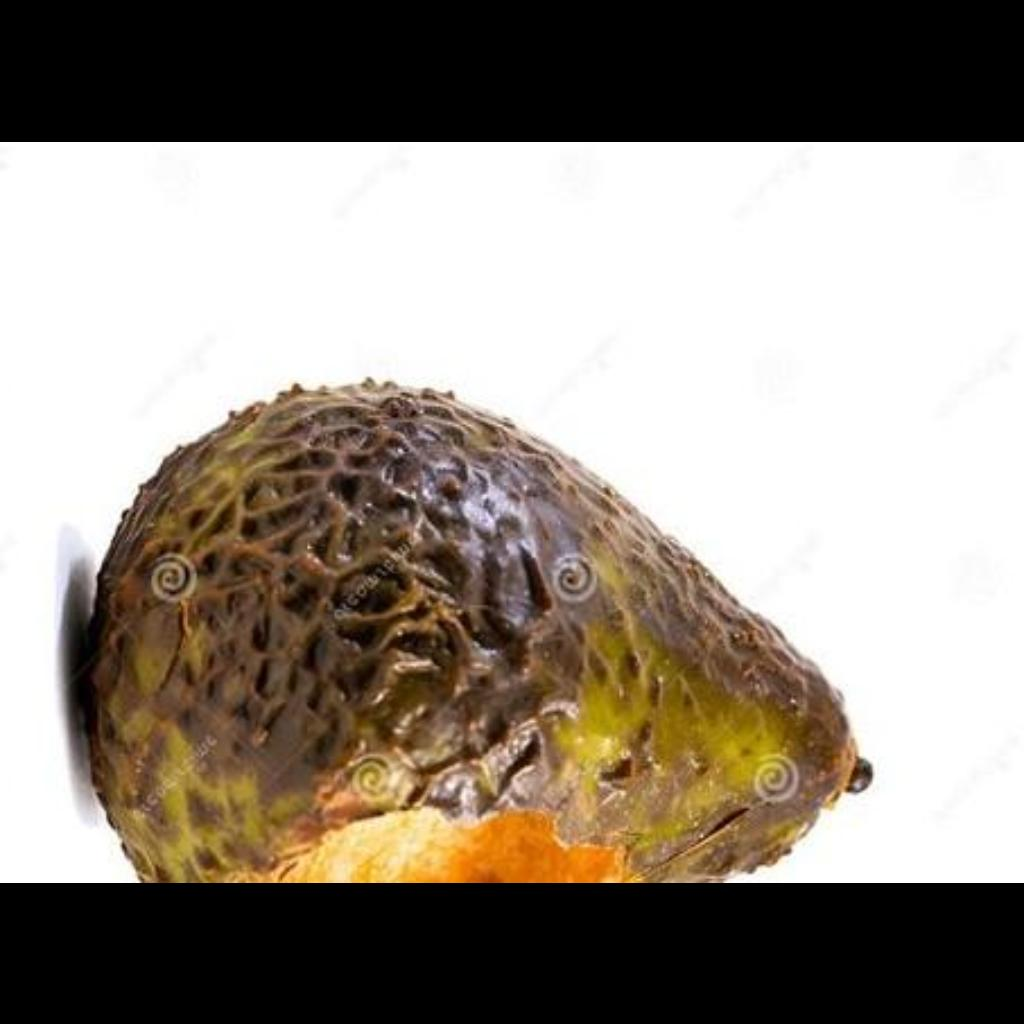antracnosis_fruto: (75, 390, 825, 883)
